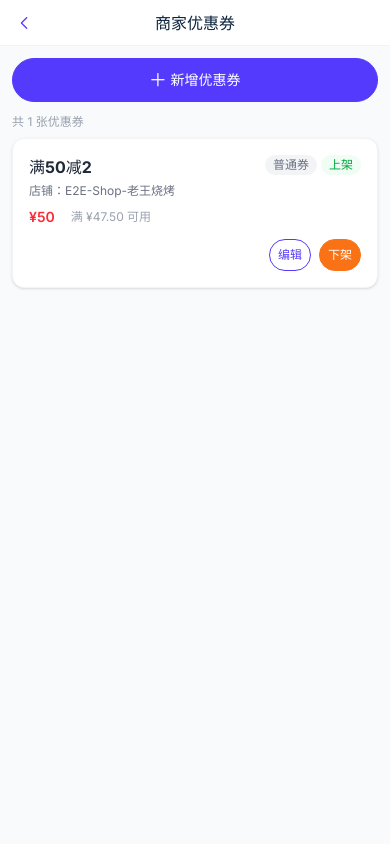
Merchant/VoucherList.vue — 新建普通券 › 创建成功 → 提示 + 关闭弹窗 + 重新拉取列表
Click the button with test id "voucher-create".
click(195, 80)  # box [12,58,378,102]
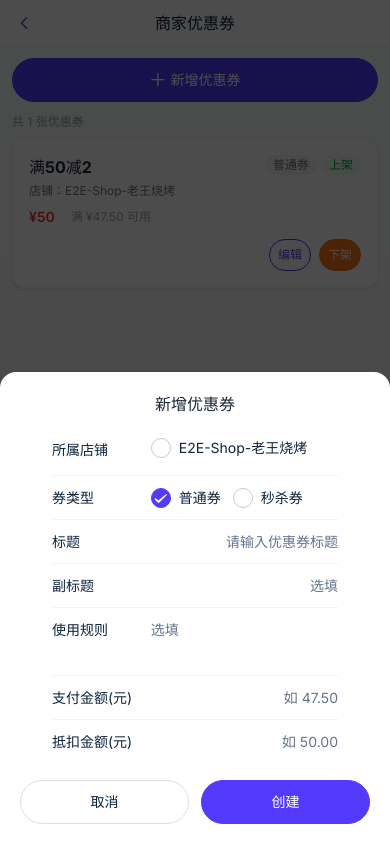
Click the radio button with test id "shop-option".
click(229, 448)  # box [151,438,307,458]
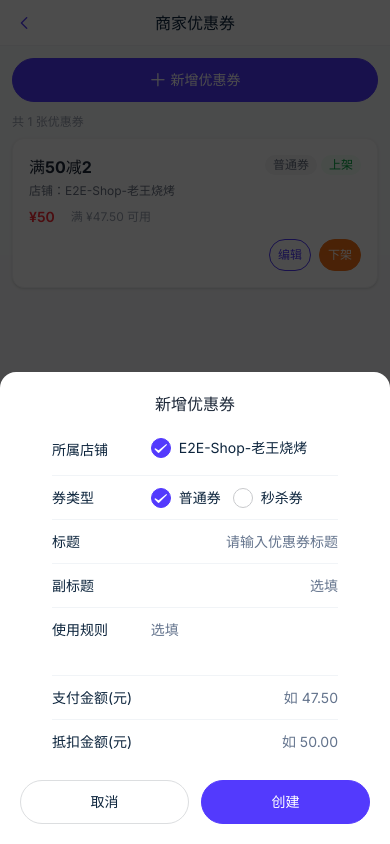
Type "满50减2" into the field labelled "标题".
click(244, 542); type("满50减2")  # box [151,530,338,554]
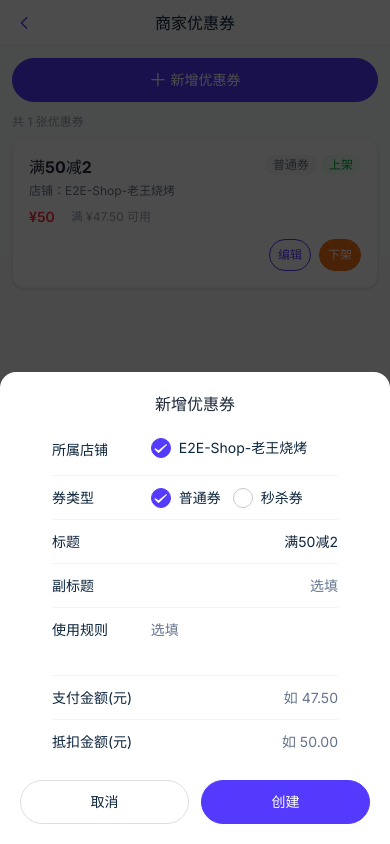
Type "47.50" into the field labelled "支付金额(元)".
click(244, 698); type("47.50")  # box [151,686,338,710]
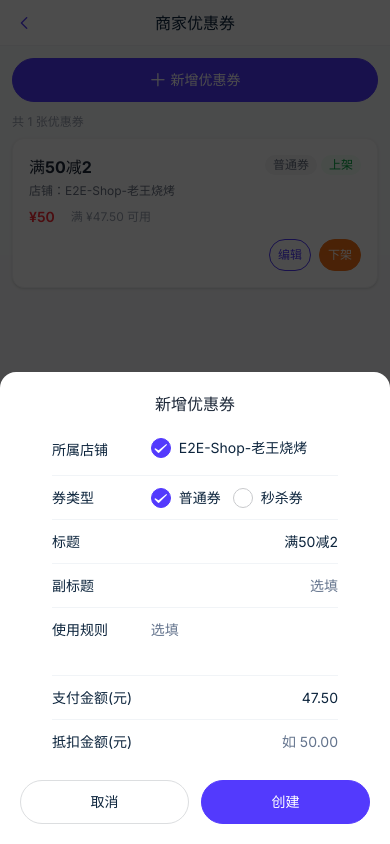
Type "50.00" into the field labelled "抵扣金额(元)".
click(244, 742); type("50.00")  # box [151,730,338,754]
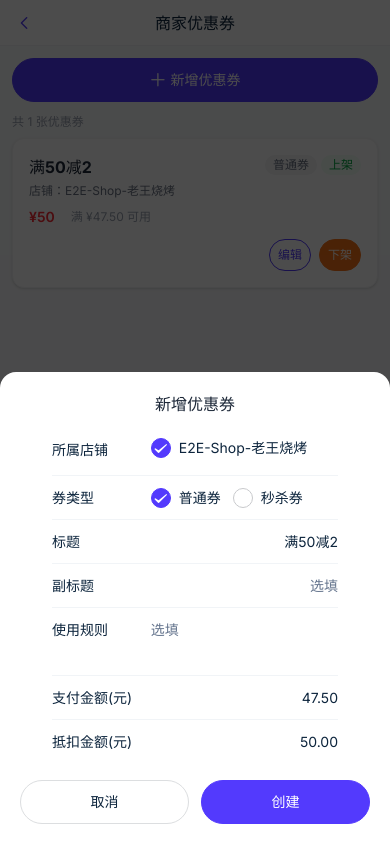
Click the button with test id "voucher-save".
click(286, 802)  # box [201,780,370,824]
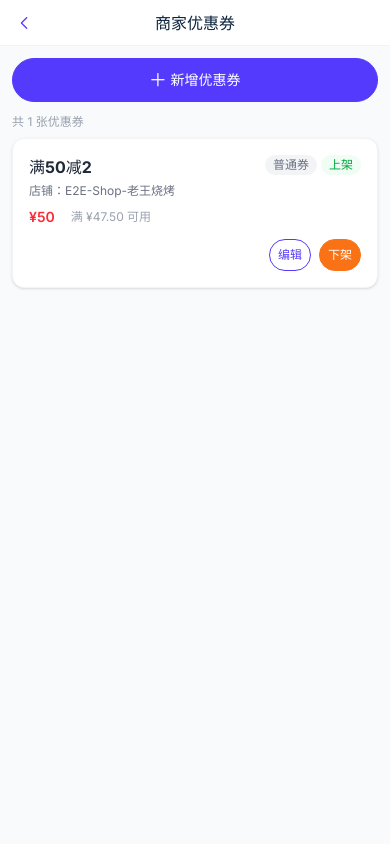
Now the element with test id "field-title" is gone
